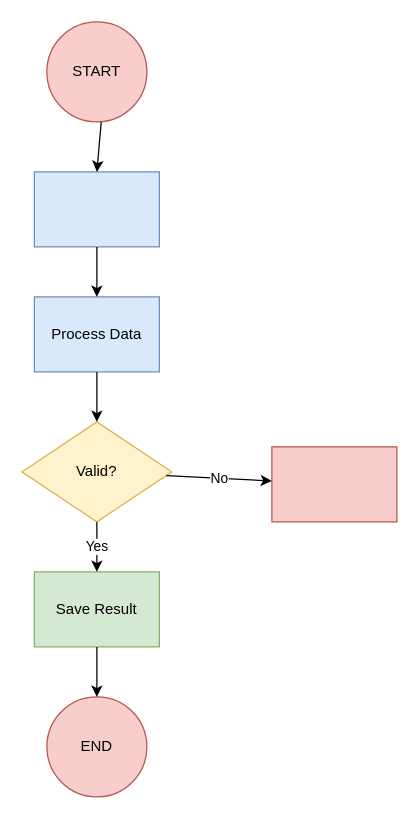
This 419x819 diagram has some shape labels left out. Each missing label, with the centre of its shape:
"Input Data" belongs at (96,209).
"Show Error" belongs at (334,484).
